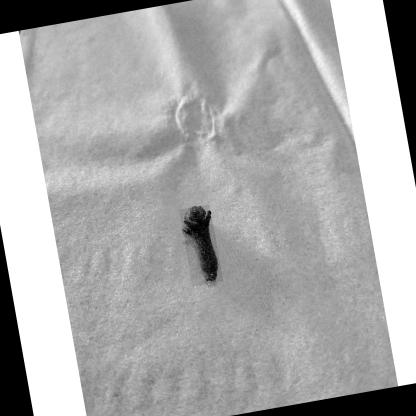baik: (183, 206, 219, 283)
